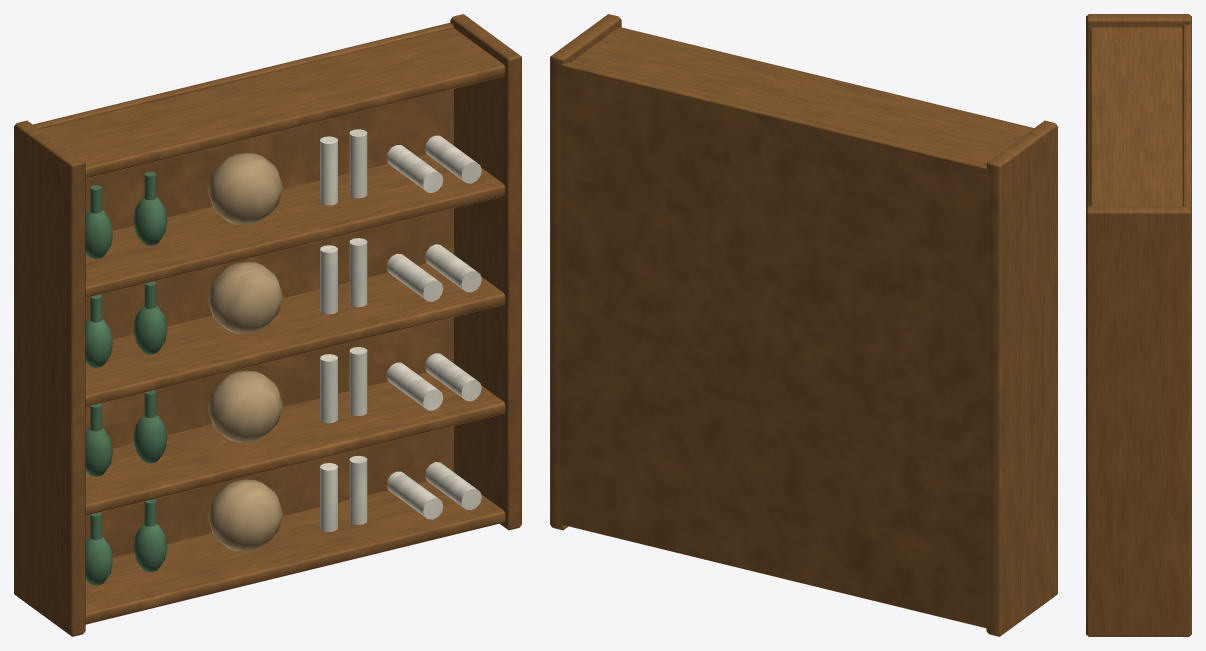
File: Furn_ShopShelf.fbx
3 views of the same model, side by side, from view 1: azimuth 30°, elevation 25°; view 2: azimuth 150°, elevation 25°; view 3: azimuth 270°, elevation 25° (orthographic). The views are drawn at different scales.
Parts seen in each view (by area): view 1: Furn_ShopShelf_Mesh; view 2: Furn_ShopShelf_Mesh; view 3: Furn_ShopShelf_Mesh.
Part boxes in pixels (left/top/right/bottom): Furn_ShopShelf_Mesh: left=14, top=14, right=521, bottom=636; Furn_ShopShelf_Mesh: left=550, top=14, right=1057, bottom=636; Furn_ShopShelf_Mesh: left=1086, top=14, right=1191, bottom=636.
Bounding box in the file's own units: 2 × 2 × 0.45.
Materials: 4 (4 with a texture image).
